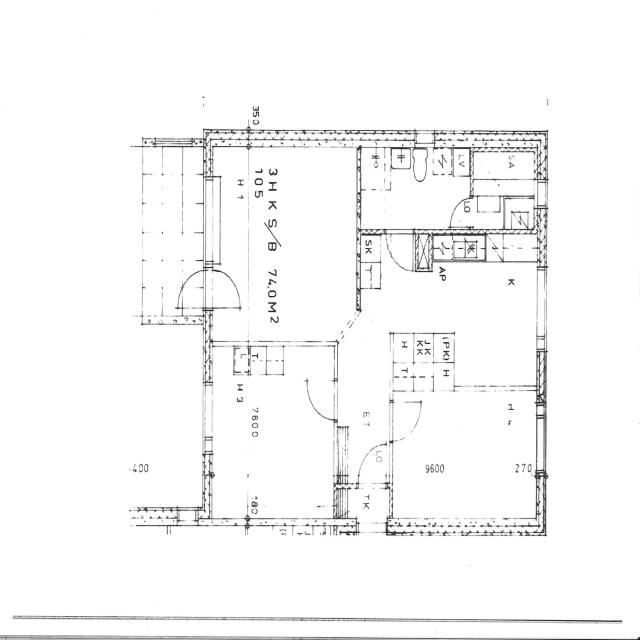door: (207, 264, 244, 313), (304, 374, 340, 422), (356, 441, 392, 488), (388, 396, 424, 442), (177, 266, 208, 315), (385, 228, 416, 274), (448, 196, 472, 230)
window: (198, 377, 218, 454), (533, 266, 551, 348), (532, 405, 549, 477), (413, 129, 437, 149), (535, 180, 549, 210)
zone: (208, 142, 356, 342), (358, 232, 539, 390), (206, 344, 342, 523), (389, 389, 543, 529), (138, 144, 204, 324), (360, 144, 470, 231), (470, 148, 538, 231), (338, 484, 392, 529)
